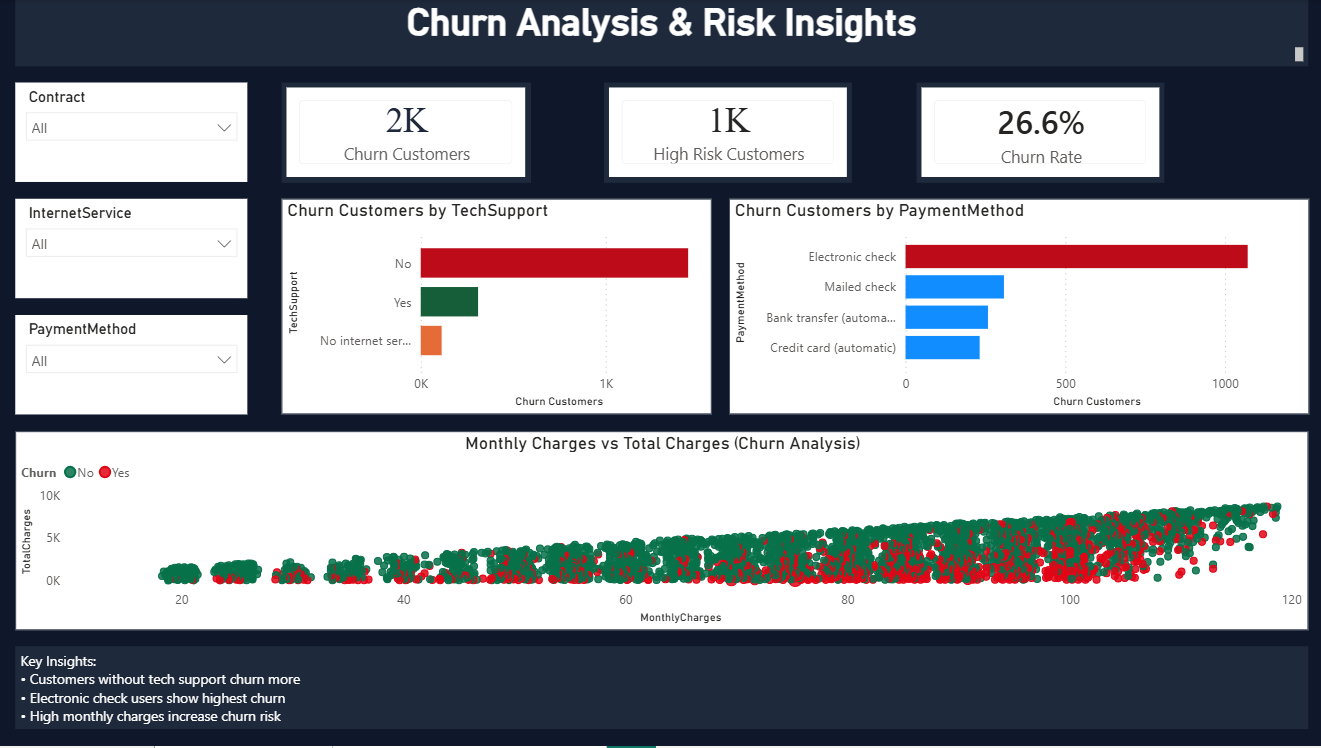

This screenshot's page, from the dashboard's own definition file:
{"tool":"powerbi","page":{"name":"Churn Analysis And Risk Analysis","canvas":[1280,720],"ordinal":1},"visuals":[{"type":"textbox","title":"Churn Analysis & Risk Insights","box":[16,0,1248,64],"z":0},{"type":"cardVisual","fields":{"Data":["telco_cleaned_dashboard.Churn Customers"]},"box":[272.7,79.4,240.9,96.7],"z":1000},{"type":"cardVisual","fields":{"Data":["telco_cleaned_dashboard.High Risk Customers"]},"box":[584.3,79.4,239.5,96.7],"z":2000},{"type":"cardVisual","fields":{"Data":["telco_cleaned_dashboard.Churn Rate"]},"box":[885.9,79.4,239.5,96.7],"z":3000},{"type":"slicer","fields":{"Values":["telco_cleaned_dashboard.Contract"]},"box":[16,80,224,96],"z":4000},{"type":"slicer","fields":{"Values":["telco_cleaned_dashboard.InternetService"]},"box":[16,192,224,96],"z":5000},{"type":"slicer","fields":{"Values":["telco_cleaned_dashboard.PaymentMethod"]},"box":[16,304,224,96],"z":6000},{"type":"barChart","fields":{"Category":["telco_cleaned_dashboard.TechSupport"],"Y":["telco_cleaned_dashboard.Churn Customers"]},"box":[272.7,191.9,415.5,207.8],"z":7000},{"type":"barChart","fields":{"Category":["telco_cleaned_dashboard.PaymentMethod"],"Y":["telco_cleaned_dashboard.Churn Customers"]},"box":[704.1,191.9,559.8,207.8],"z":8000},{"type":"scatterChart","title":"Monthly Charges vs Total Charges (Churn Analysis)","fields":{"Series":["telco_cleaned_dashboard.Churn"],"Size":["CountNonNull(telco_cleaned_dashboard.customerID)"],"X":["telco_cleaned_dashboard.MonthlyCharges"],"Y":["telco_cleaned_dashboard.TotalCharges"]},"box":[16,416,1248,192],"z":9000},{"type":"textbox","box":[16,624,1248,80],"z":10000}]}

Visuals, with their boxes in screenshot pixels (x1, y1, x2, y2), scaled from the page's 1280x720 canvas onto the 1321x748 screenshot:
"Churn Analysis & Risk Insights" textbox: [x1=17, y1=0, x2=1304, y2=66]
cardVisual - telco_cleaned_dashboard.Churn Customers: [x1=281, y1=82, x2=530, y2=183]
cardVisual - telco_cleaned_dashboard.High Risk Customers: [x1=603, y1=82, x2=850, y2=183]
cardVisual - telco_cleaned_dashboard.Churn Rate: [x1=914, y1=82, x2=1161, y2=183]
slicer - telco_cleaned_dashboard.Contract: [x1=17, y1=83, x2=248, y2=183]
slicer - telco_cleaned_dashboard.InternetService: [x1=17, y1=199, x2=248, y2=299]
slicer - telco_cleaned_dashboard.PaymentMethod: [x1=17, y1=316, x2=248, y2=416]
barChart - telco_cleaned_dashboard.TechSupport x telco_cleaned_dashboard.Churn Customers: [x1=281, y1=199, x2=710, y2=415]
barChart - telco_cleaned_dashboard.PaymentMethod x telco_cleaned_dashboard.Churn Customers: [x1=727, y1=199, x2=1304, y2=415]
"Monthly Charges vs Total Charges (Churn Analysis)" scatterChart: [x1=17, y1=432, x2=1304, y2=632]
textbox: [x1=17, y1=648, x2=1304, y2=731]
